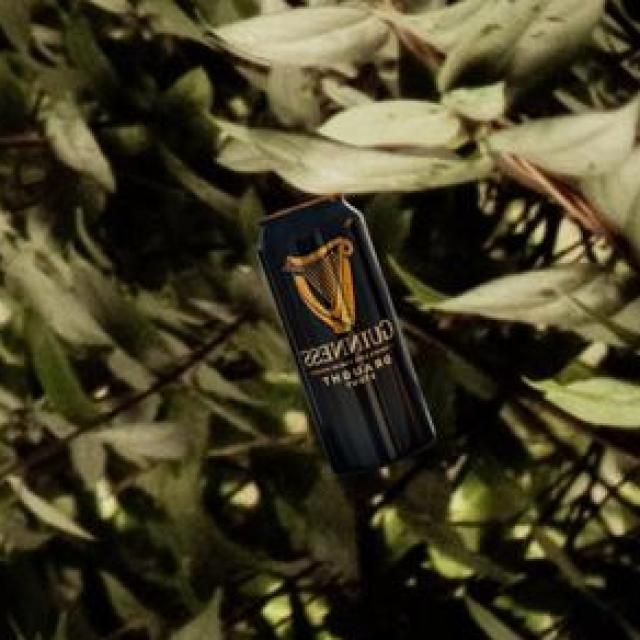logam: (253, 196, 431, 479)
